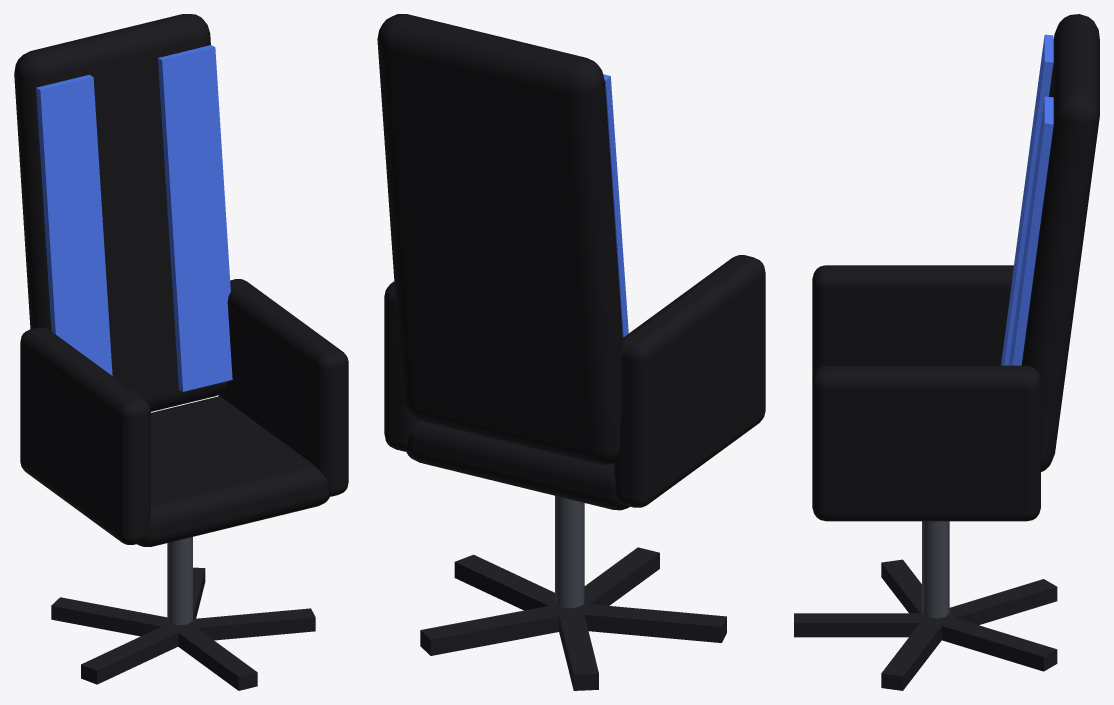
The model's file is cadeira-gamer.glb.
3 renders of one model, left to right at view 1: azimuth 30°, elevation 25°; view 2: azimuth 150°, elevation 25°; view 3: azimuth 270°, elevation 25°, orthographic. The views are drawn at different scales.
Visible parts, largest first — view 1: cadeira-gamer_malha; view 2: cadeira-gamer_malha; view 3: cadeira-gamer_malha.
Boxes of the visible parts, x1,y1,x2,y2 form: cadeira-gamer_malha: [14, 14, 348, 690]; cadeira-gamer_malha: [377, 14, 765, 690]; cadeira-gamer_malha: [794, 14, 1099, 690].
Size of the model in its own units: 0.6051 by 1.39 by 0.6687.
